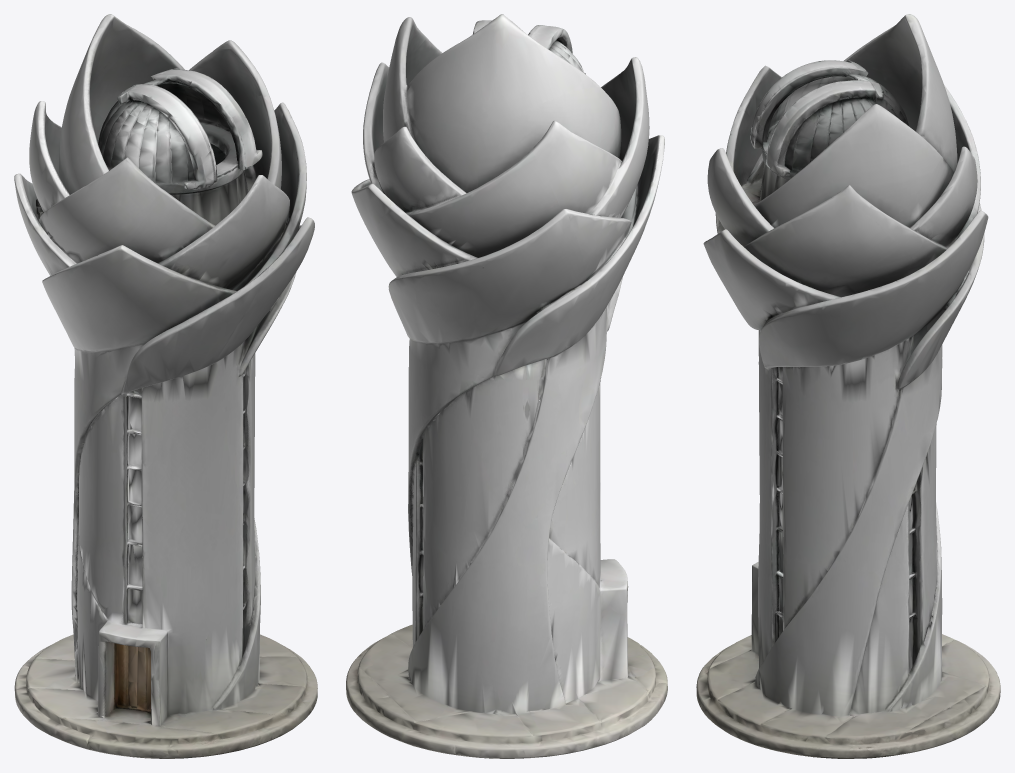
The model's file is tower.glb.
3 views of the same model, side by side, from view 1: azimuth 30°, elevation 25°; view 2: azimuth 150°, elevation 25°; view 3: azimuth 270°, elevation 25° (orthographic). The views are drawn at different scales.
Visible parts, largest first — view 1: tripo_node_3bdc68b0-095f-4292-a370-feef7f75d0ce; view 2: tripo_node_3bdc68b0-095f-4292-a370-feef7f75d0ce; view 3: tripo_node_3bdc68b0-095f-4292-a370-feef7f75d0ce.
Boxes of the visible parts, x1,y1,x2,y2 form: tripo_node_3bdc68b0-095f-4292-a370-feef7f75d0ce: [14, 14, 317, 758]; tripo_node_3bdc68b0-095f-4292-a370-feef7f75d0ce: [346, 14, 667, 758]; tripo_node_3bdc68b0-095f-4292-a370-feef7f75d0ce: [696, 14, 1000, 758].
Size of the model in its own units: 0.4024 by 0.9779 by 0.4006.
1 material, 1 textured.
